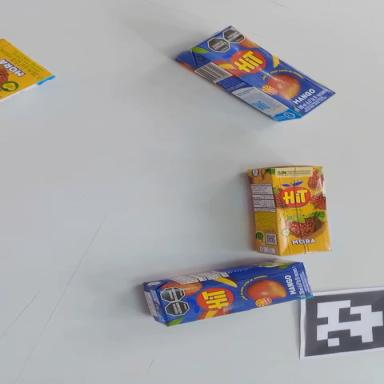HIT-MANGO: (175, 10, 335, 142), (142, 250, 312, 329)
HIT-MORA: (249, 162, 330, 258), (0, 39, 54, 101)
cara_F: (187, 12, 335, 131), (159, 261, 313, 327), (270, 162, 332, 256), (0, 37, 55, 101)
